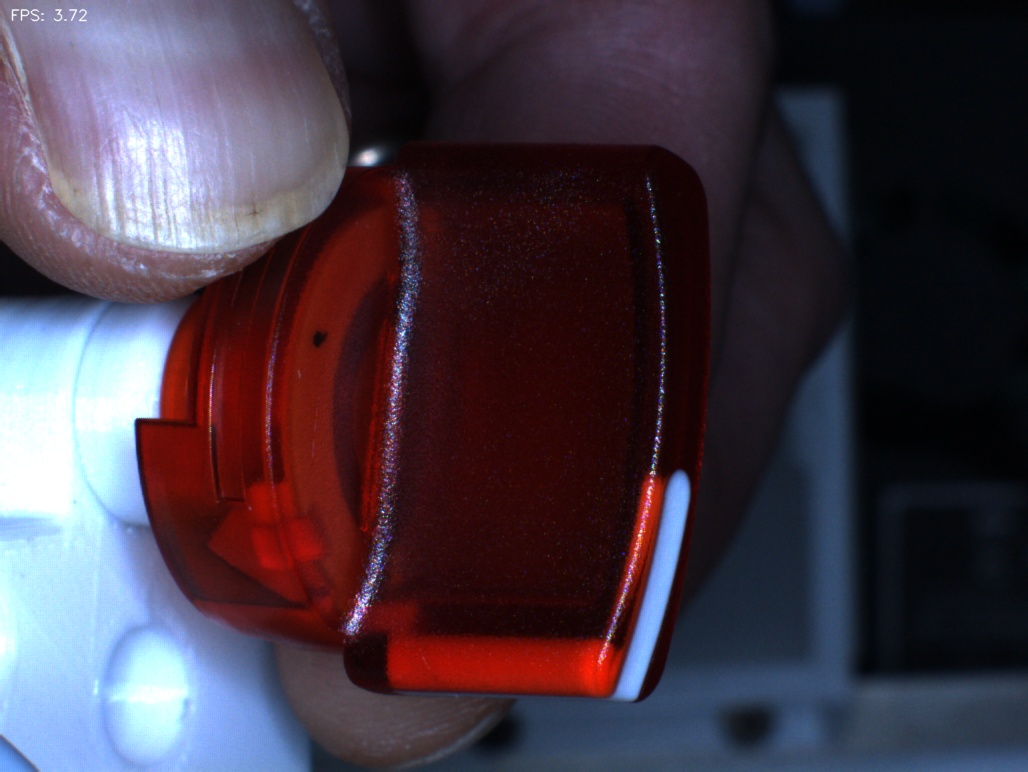PointNoir: (283, 288, 361, 387)
